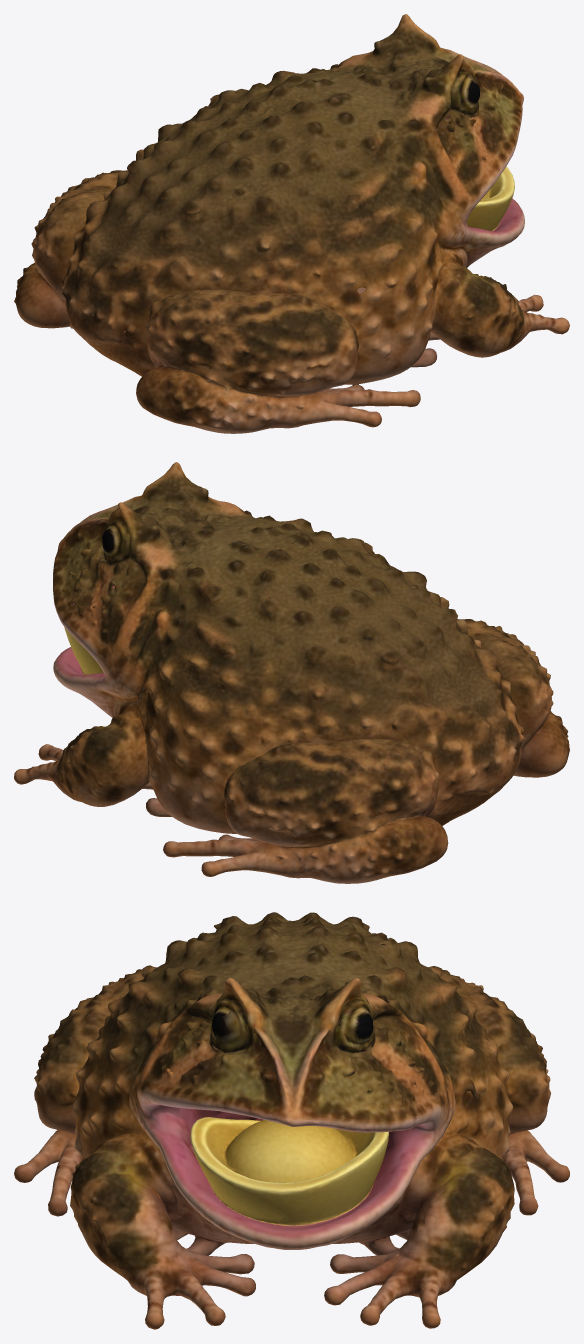
The model's file is generation_frog_2.glb.
3 renders of one model, top to bottom at view 1: azimuth 30°, elevation 25°; view 2: azimuth 150°, elevation 25°; view 3: azimuth 270°, elevation 25°, orthographic. The views are drawn at different scales.
Parts seen in each view (by area): view 1: geometry_0; view 2: geometry_0; view 3: geometry_0.
Boxes of the visible parts, x1,y1,x2,y2 form: geometry_0: (14,14,569,433); geometry_0: (14,462,569,883); geometry_0: (14,912,569,1329).
Size of the model in its own units: 0.9991 by 0.582 by 0.9354.
1 material, 1 textured.
